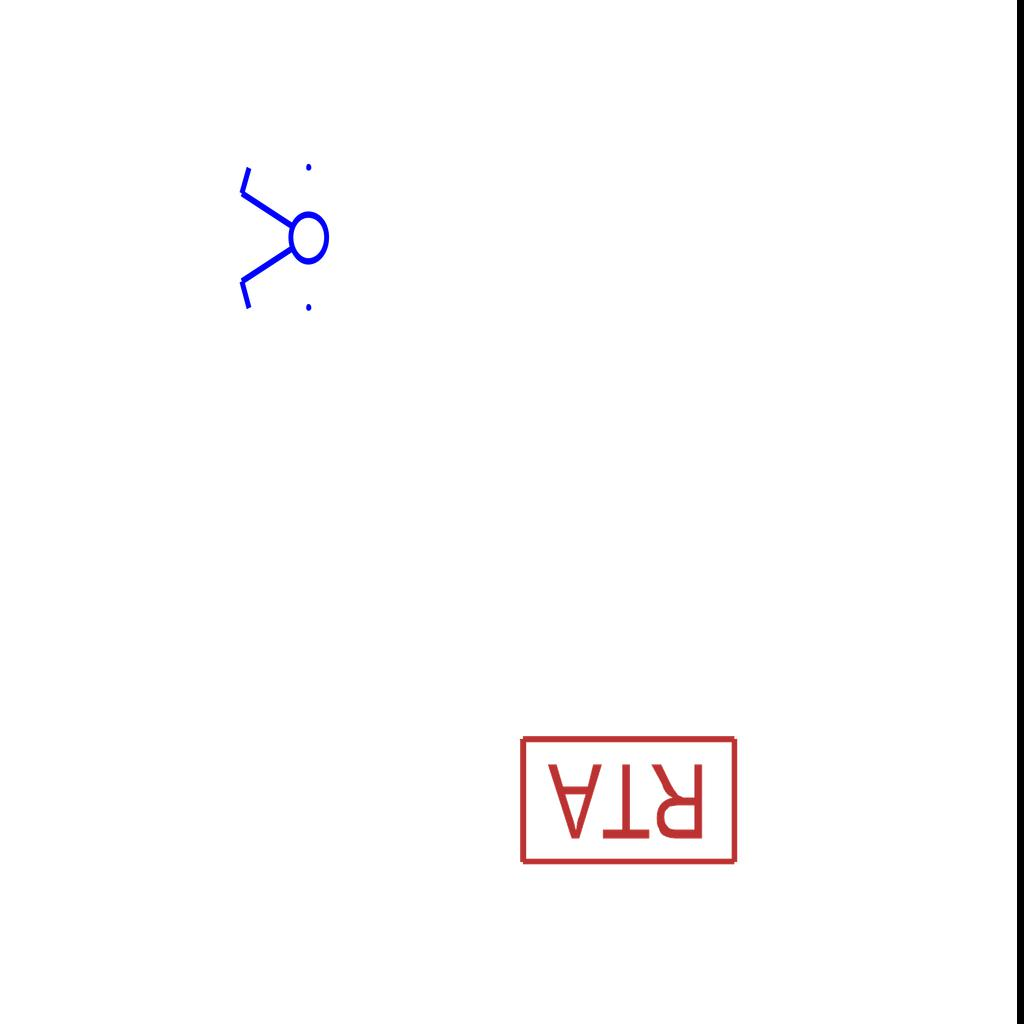Ruf-und_Abstelltaster: (517, 731, 745, 869)
Serienschalter: (235, 155, 331, 323)
